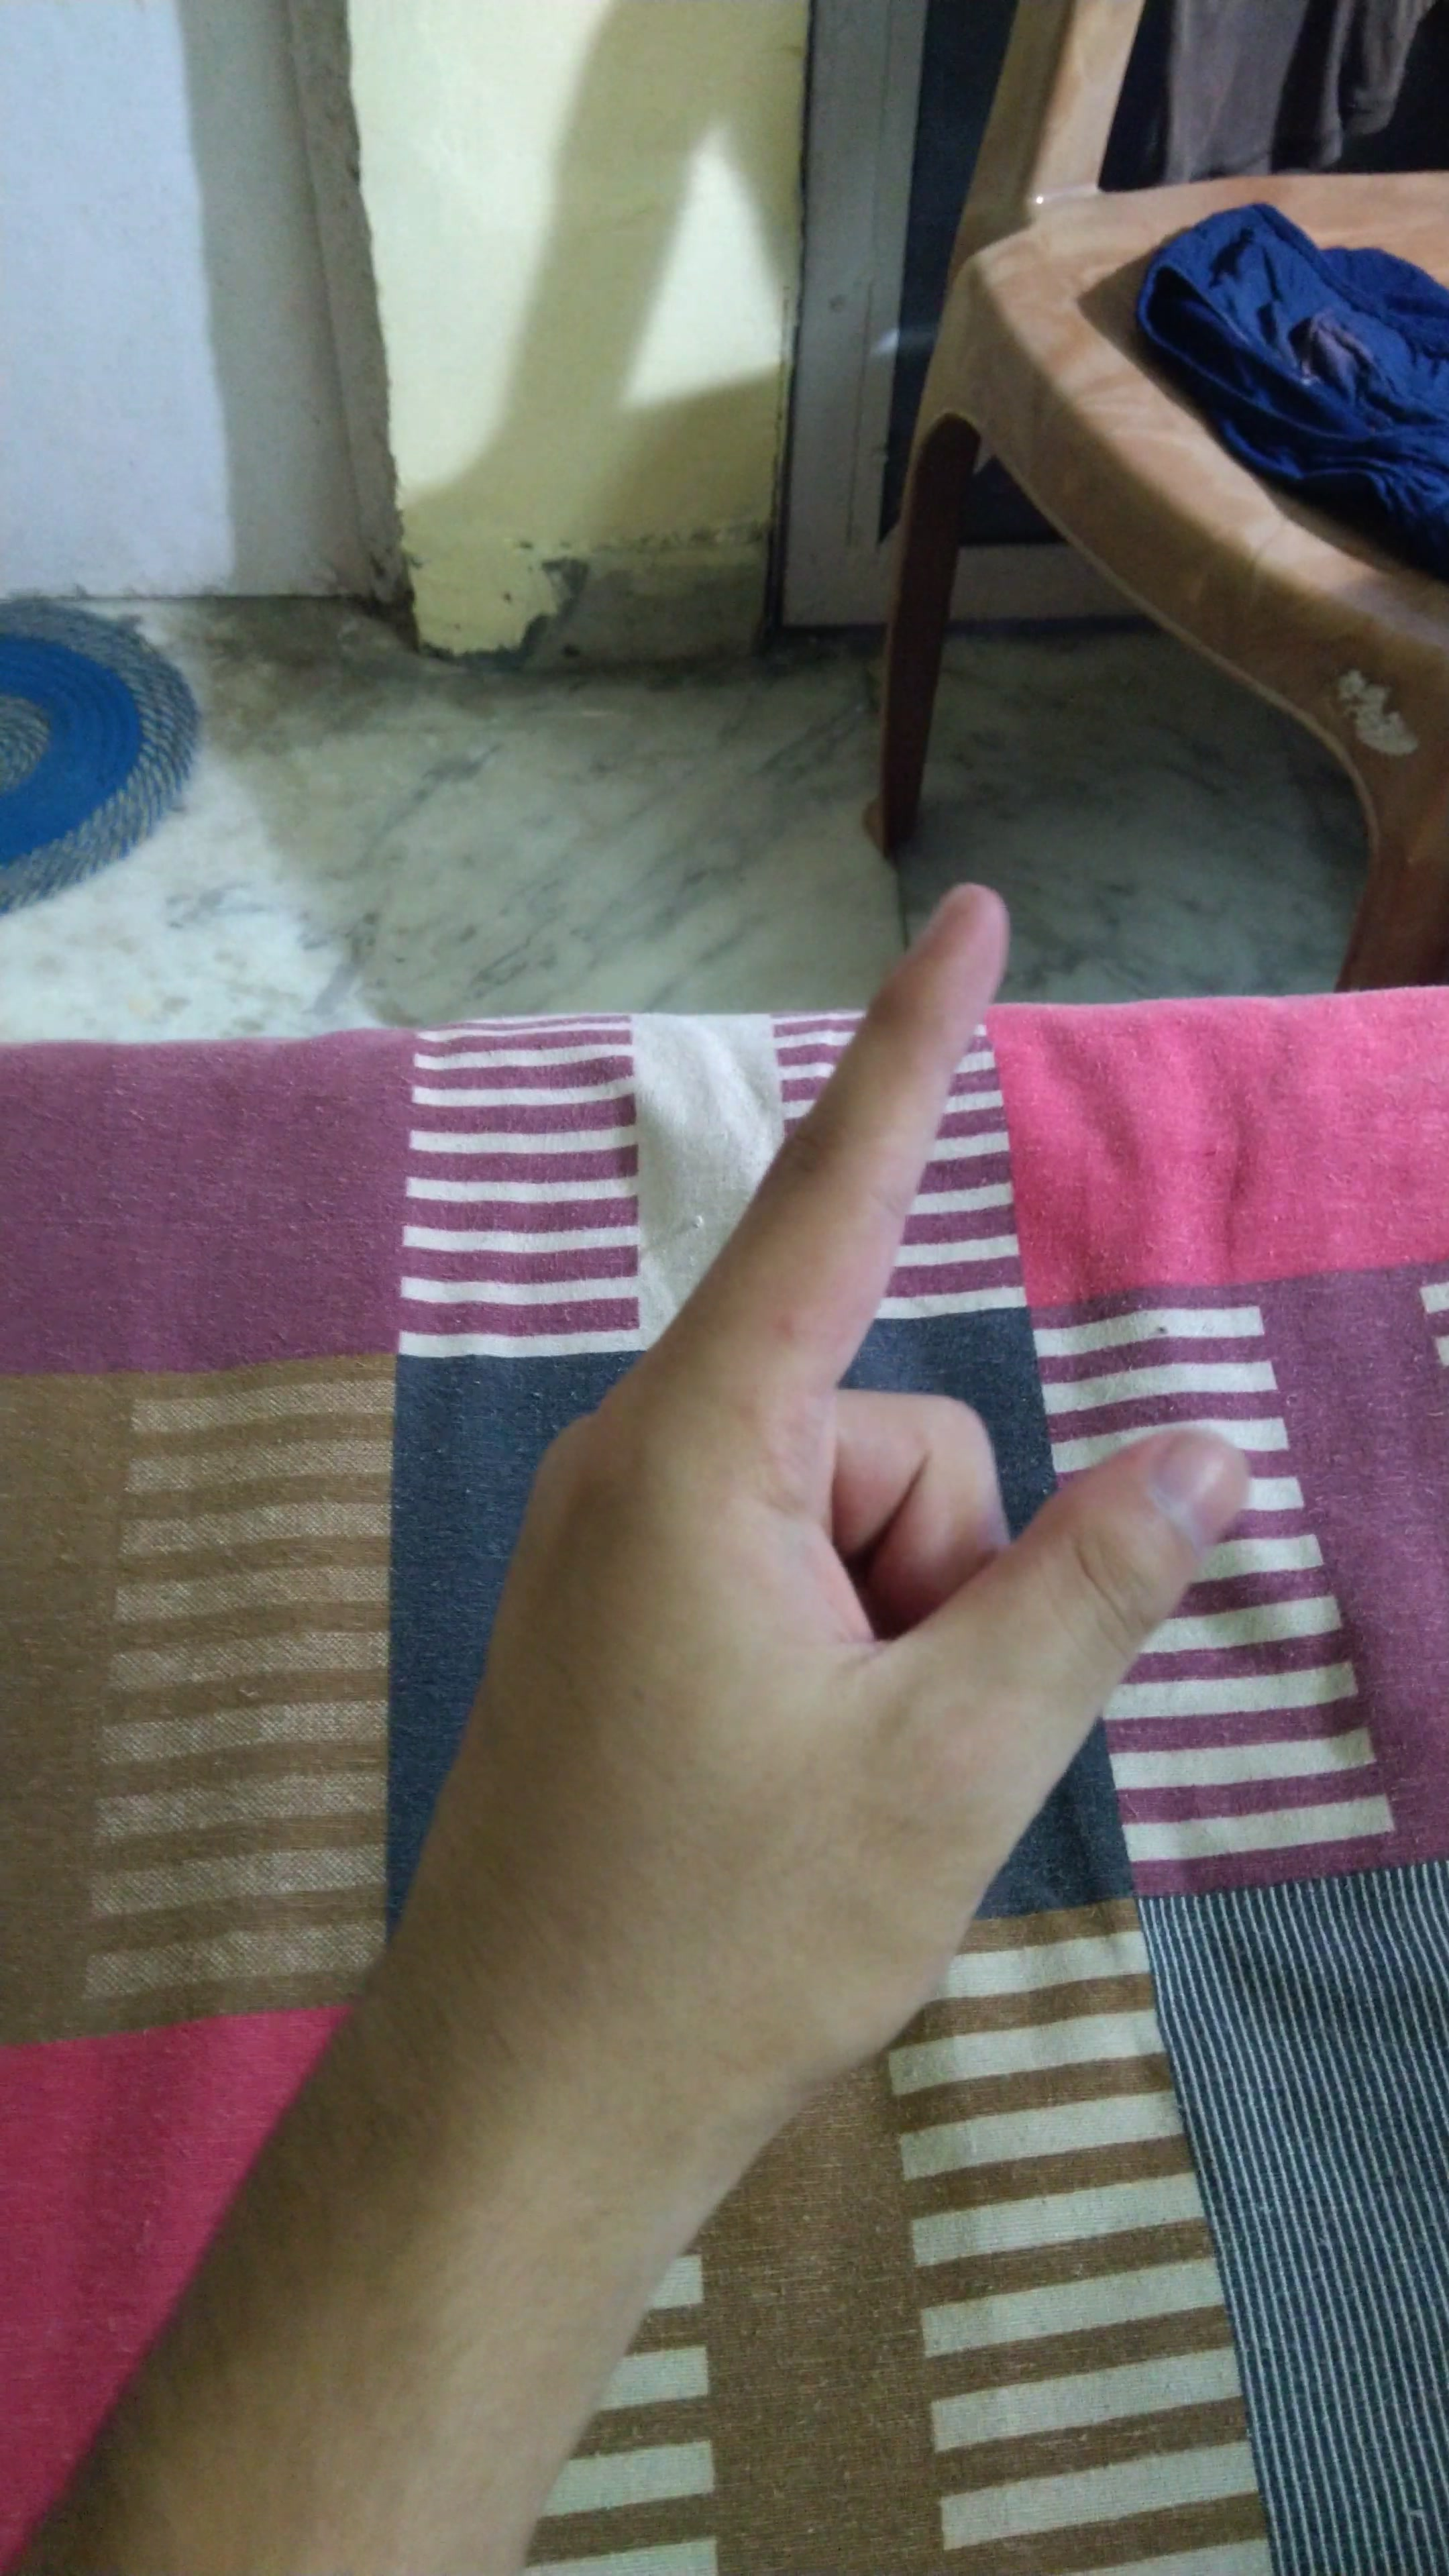hand: (345, 812, 1276, 2171)
